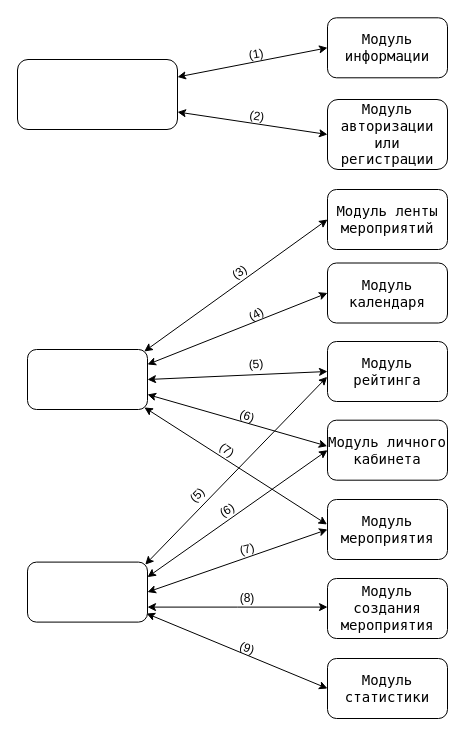
The diagram is 465 pixels wide and 736 high, and some of its shapes have lost their labels. Each missing label, with the centre of its shape:
"Клиент волонтера" goes at (x=87, y=379).
"Клиент для неавторизированных пользователей" goes at (x=97, y=94).
"Клиент организации" goes at (x=87, y=591).
